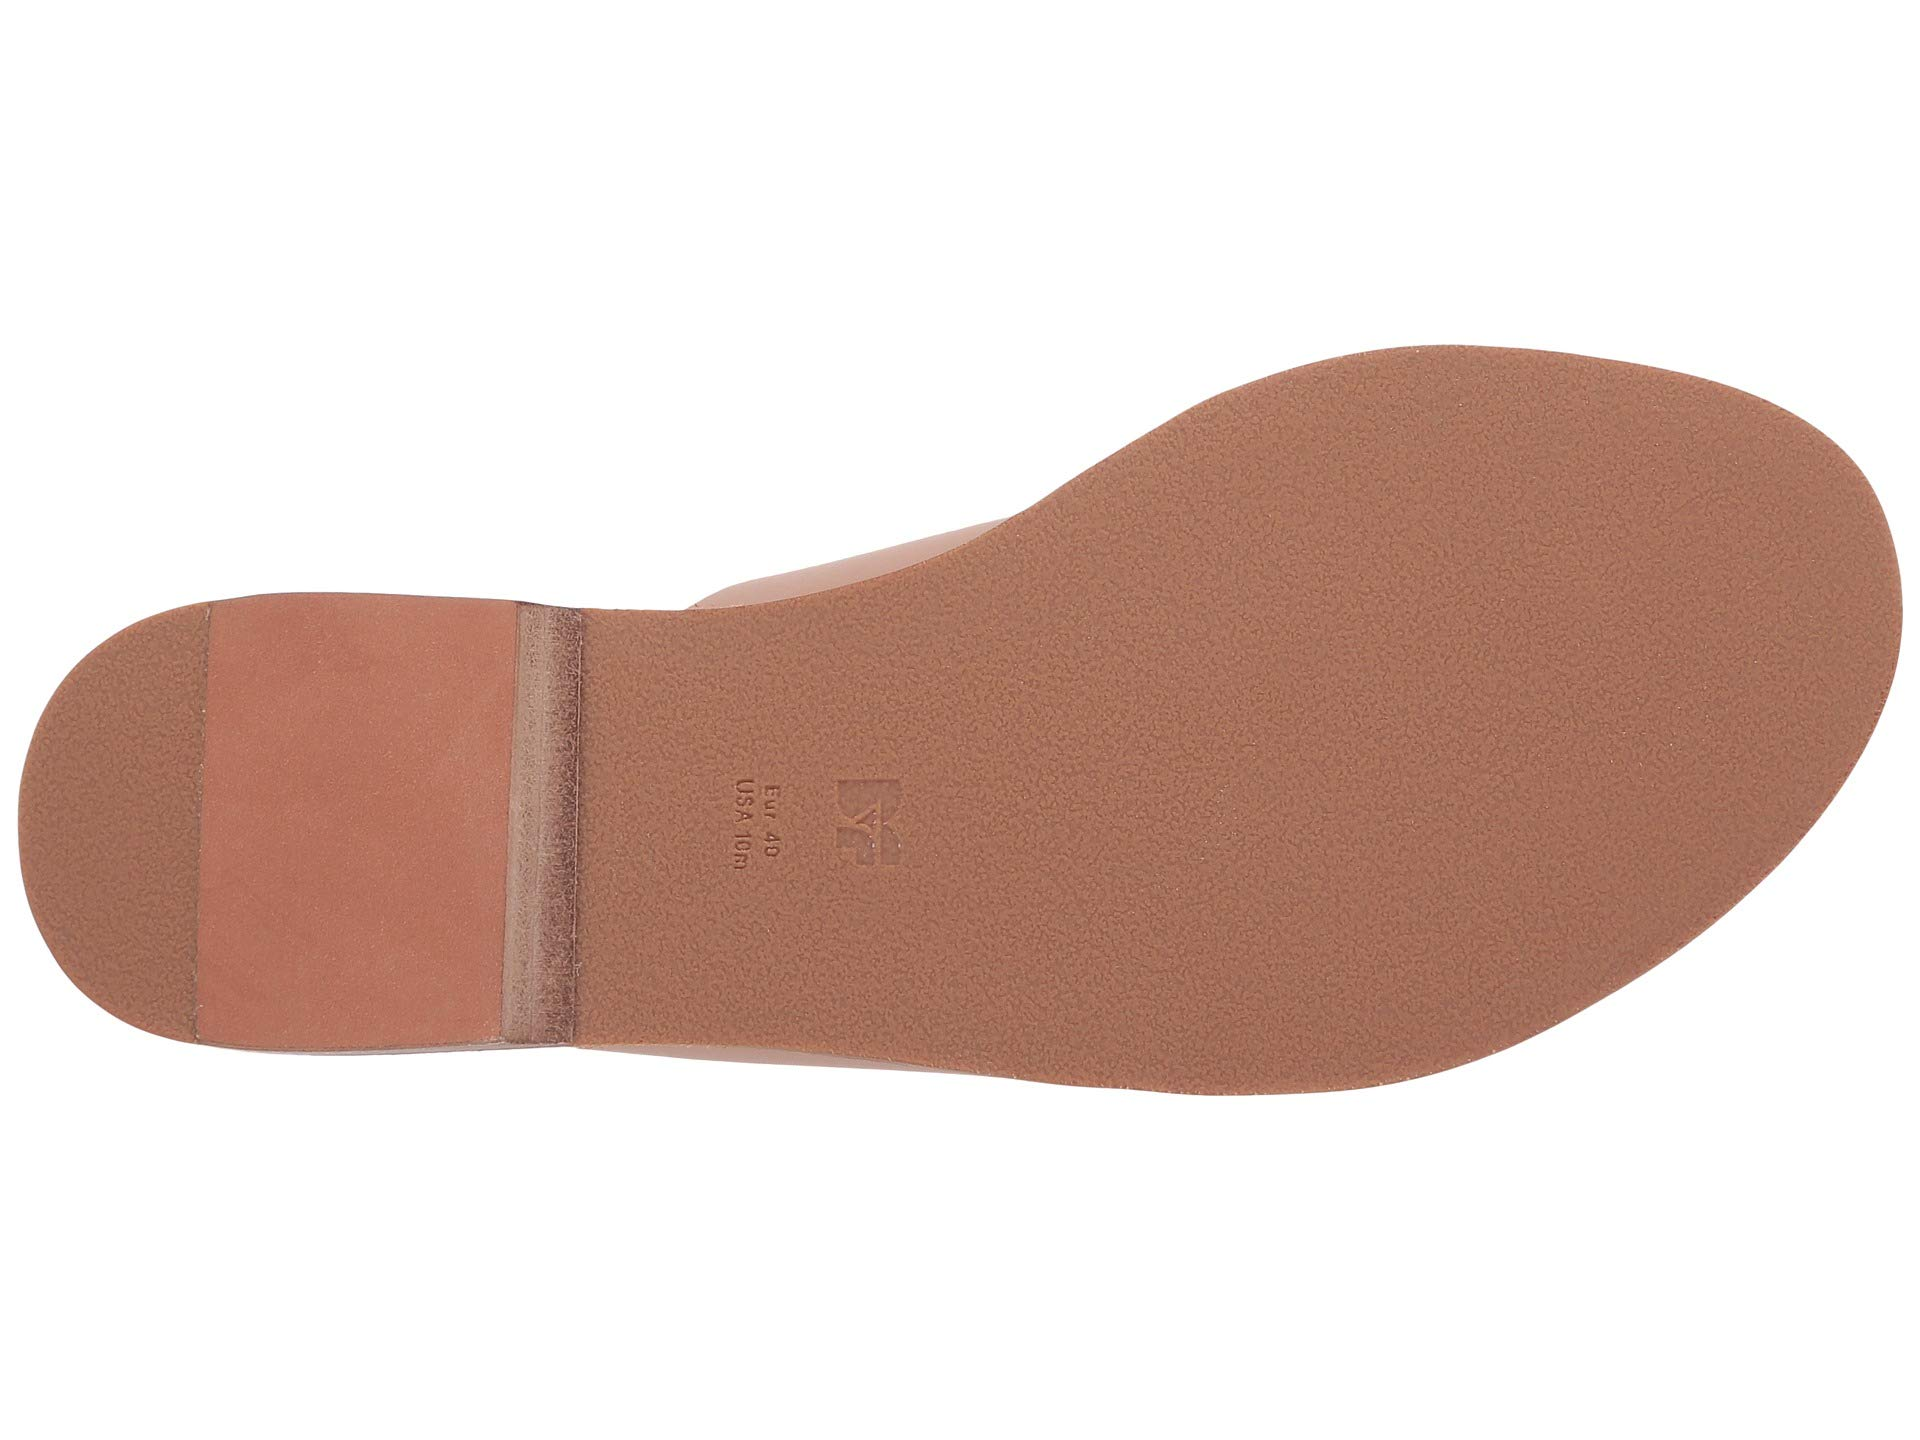text: (682, 728, 828, 895)
